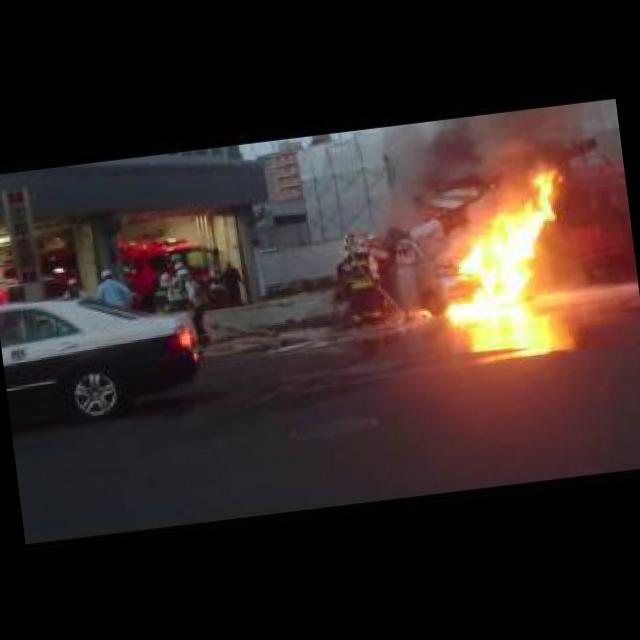fire: (421, 166, 571, 337)
